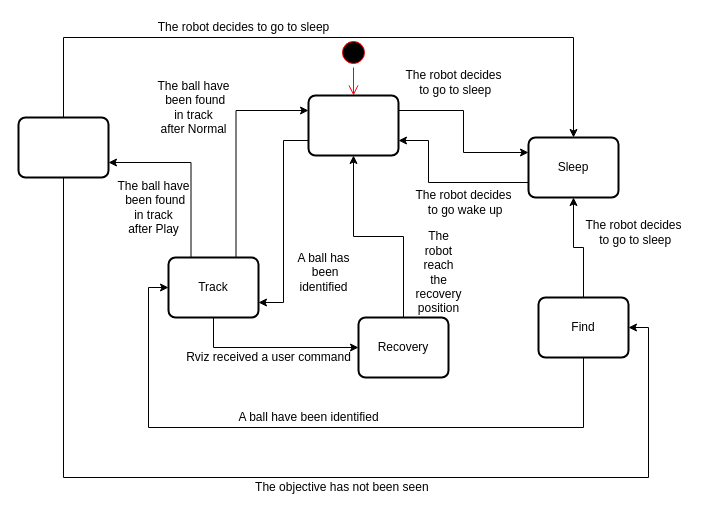
The diagram is 705 pixels wide and 514 high, and some of its shapes have lost their labels. Each missing label, with the box of its shape:
Normal: (307, 94, 399, 156)
Play: (17, 116, 109, 178)
